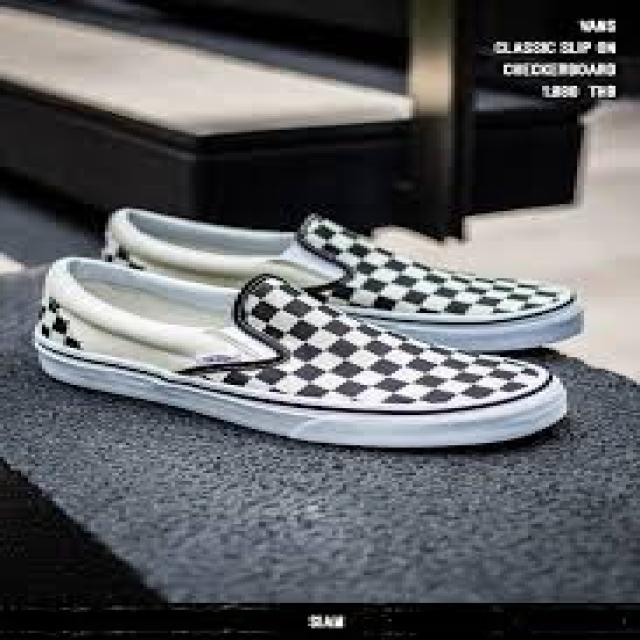shoe: (24, 204, 586, 467), (34, 256, 572, 456)
